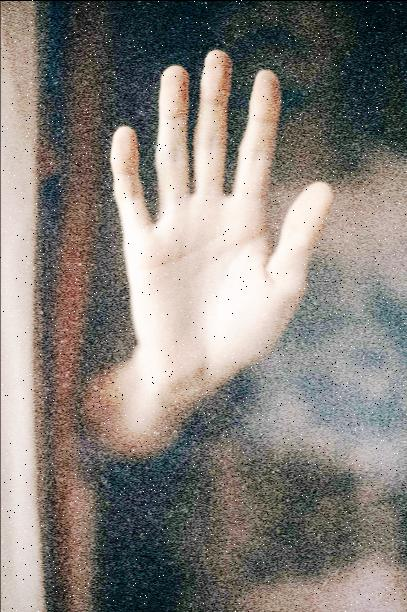Paper: (105, 45, 334, 395)
